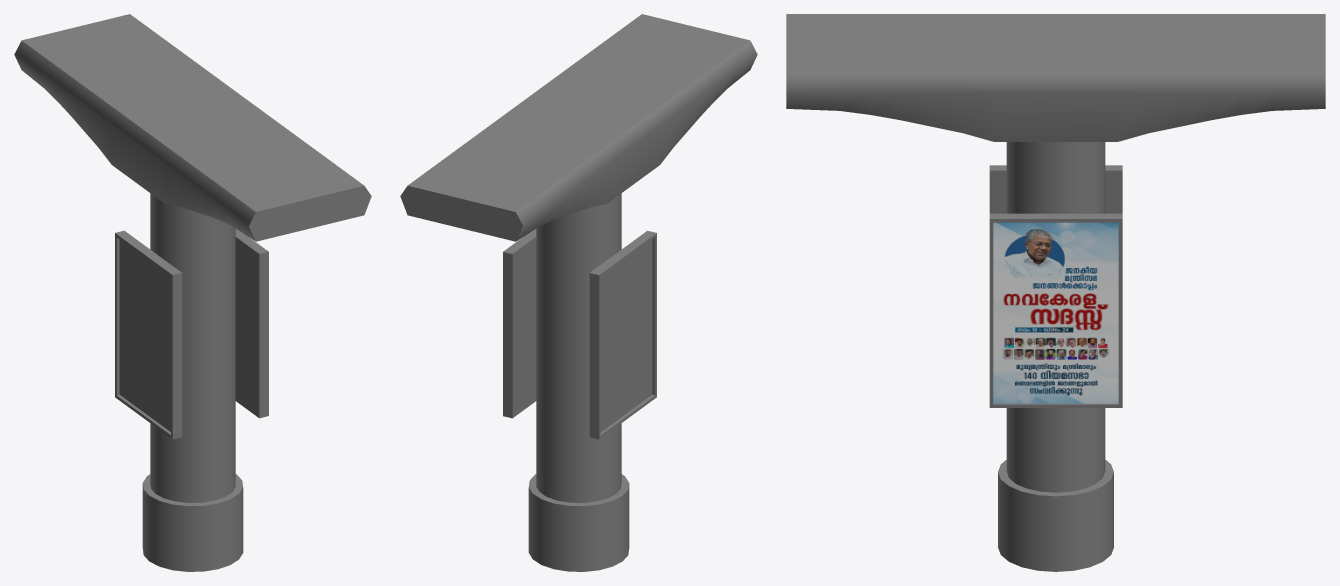
The model's file is Potrait4.fbx.
The picture shows the model from 3 angles, left to right: view 1: azimuth 30°, elevation 25°; view 2: azimuth 150°, elevation 25°; view 3: azimuth 270°, elevation 25°; orthographic projection. The views are drawn at different scales.
Visible parts, largest first — view 1: top1, piller, ADDBOARD1, ADDBOARD; view 2: top1, piller, ADDBOARD1, ADDBOARD; view 3: top1, piller, add_advertA, ADDBOARD, ADDBOARD1.
Boxes of the visible parts, x1=… form: top1: x1=14, y1=14, x2=371, y2=241; piller: x1=142, y1=193, x2=243, y2=571; ADDBOARD1: x1=115, y1=230, x2=182, y2=439; ADDBOARD: x1=235, y1=229, x2=268, y2=418; top1: x1=400, y1=14, x2=757, y2=241; piller: x1=528, y1=193, x2=629, y2=571; ADDBOARD1: x1=589, y1=230, x2=656, y2=439; ADDBOARD: x1=503, y1=229, x2=536, y2=418; top1: x1=786, y1=14, x2=1325, y2=141; piller: x1=998, y1=142, x2=1113, y2=571; add_advertA: x1=993, y1=222, x2=1118, y2=403; ADDBOARD: x1=989, y1=213, x2=1122, y2=407; ADDBOARD1: x1=989, y1=165, x2=1122, y2=213.
Bounding box in the file's own units: 989 × 3365 × 3268.
2 materials, 1 textured.
